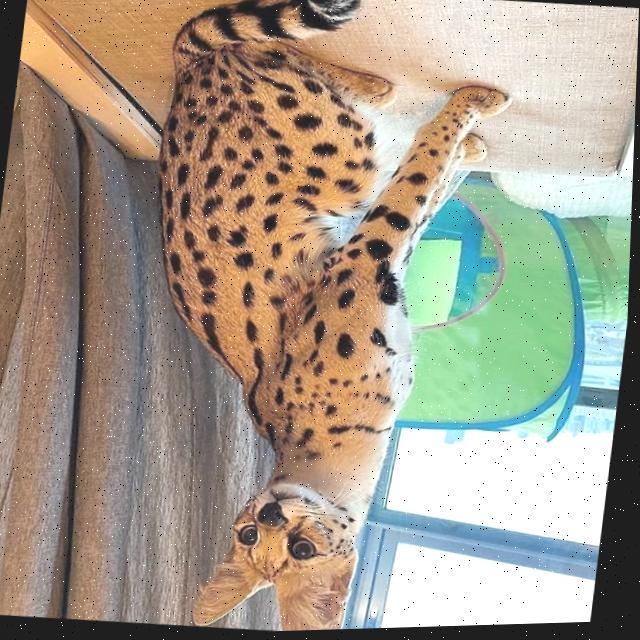Savannah: (98, 0, 527, 637)
